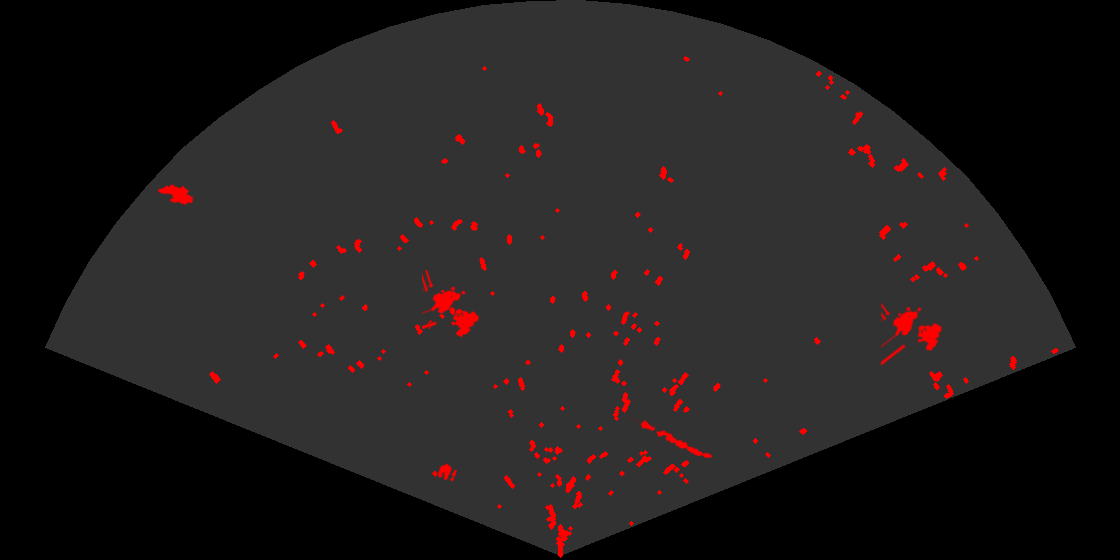AUV: (156, 183, 195, 207)
ball: (436, 462, 459, 483)
cage: (881, 301, 944, 367), (422, 270, 481, 339)
chain: (632, 416, 714, 460)
